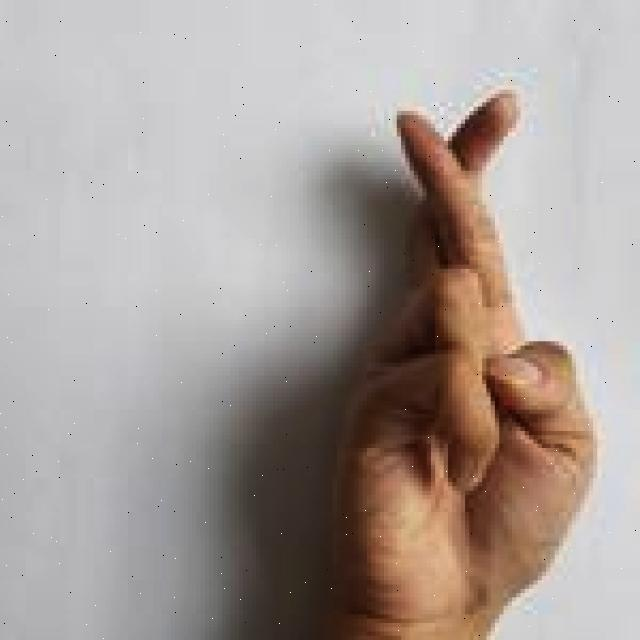R: (320, 77, 608, 640)
